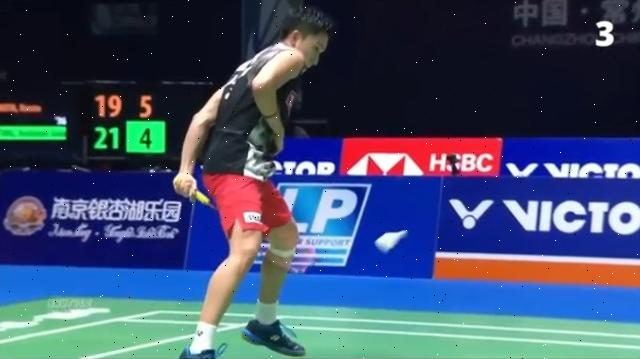Shuttlecock: (372, 226, 408, 258)
